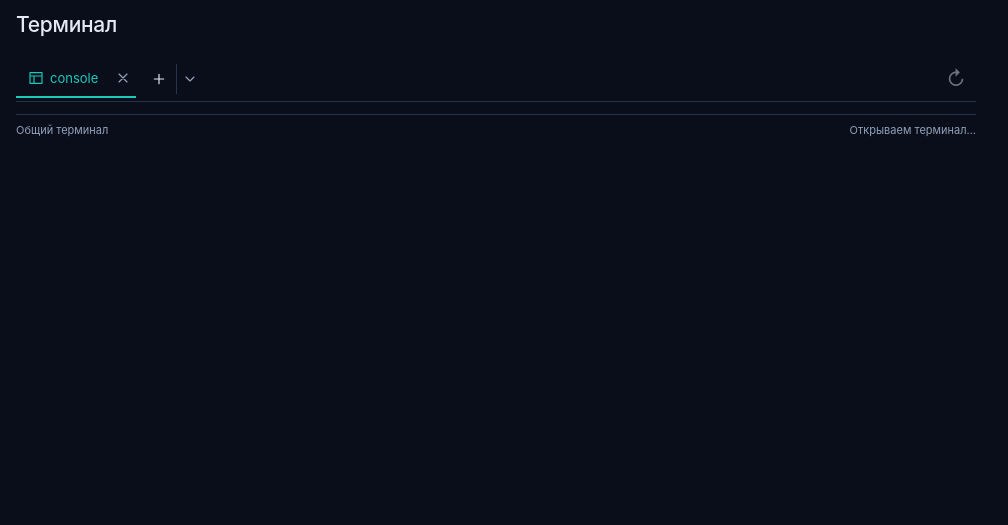
Test: offers distinct common and primary-bound creation, then rename without changing scope
Check: the tab "console" is shown, box [16,60,110,96]
Click the button named "Выбрать тип терминала" at [189, 79], box [176,64,202,94]
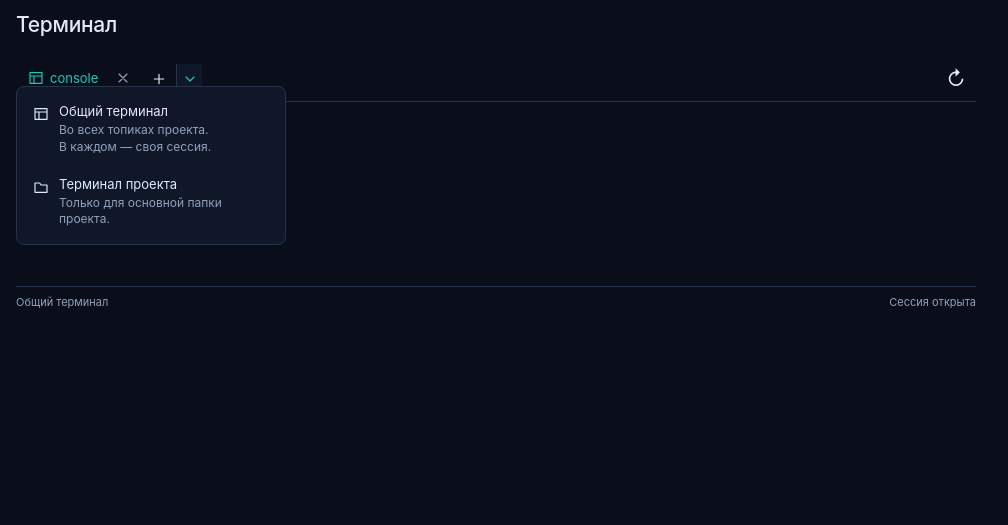
Click the menu item "Терминал проекта" at [151, 202], box [23,166,279,238]
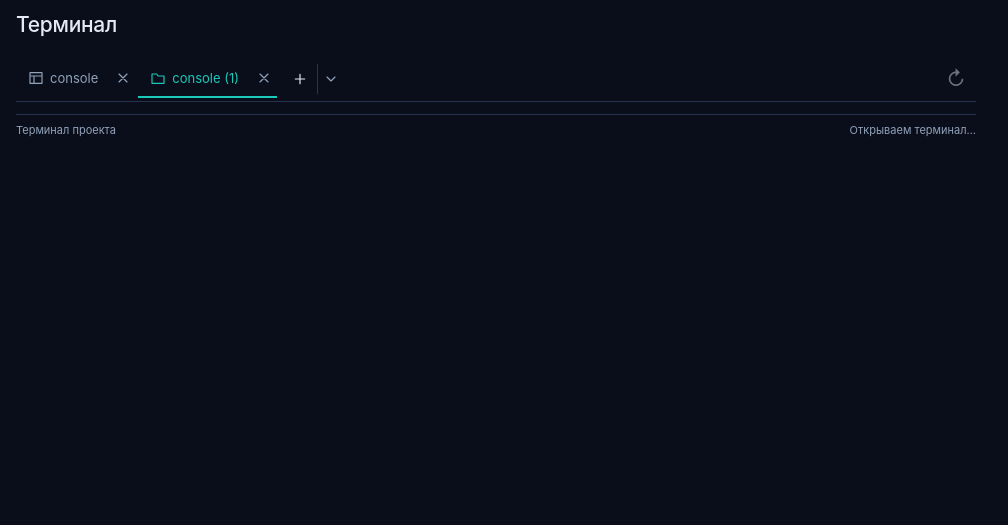
Check: the tab "console (1)" is shown
Right-click the tab "console (1)" at [195, 78], box [138,60,251,96]
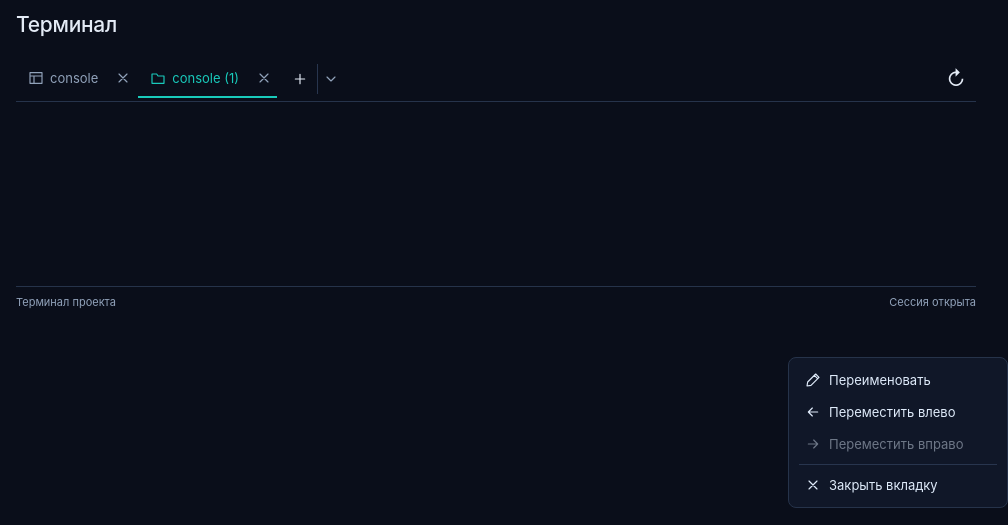
Click the menu item with aria-label "Переименовать терминал" at [898, 380], box [795,364,1001,396]
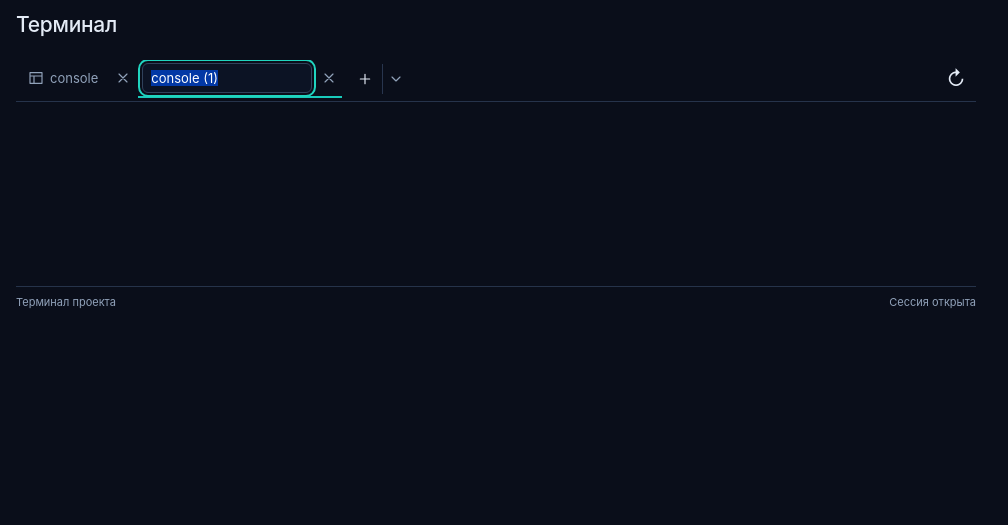
Replace the text in the field named "Имя терминала" with "Сборка" at [227, 78], box [142,63,312,93]
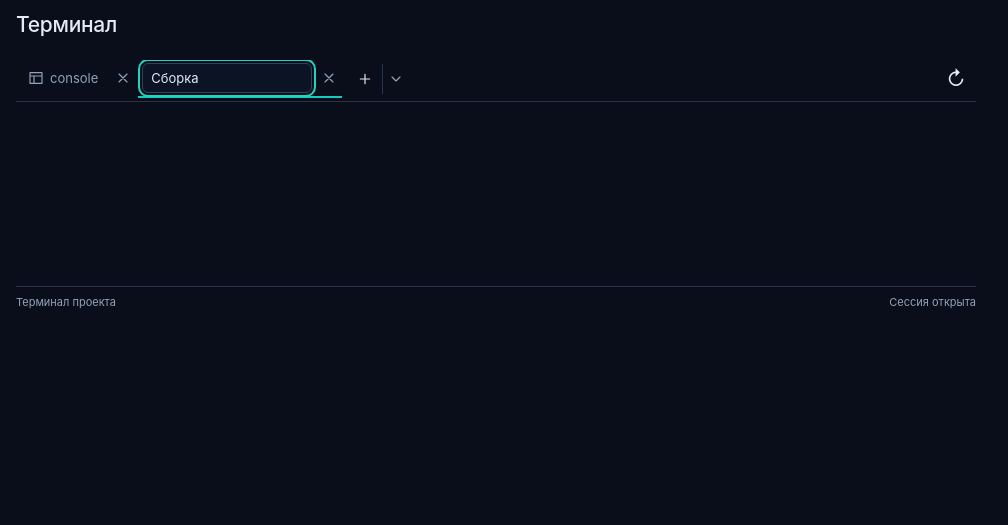
Submit the form, box [138,60,316,96]
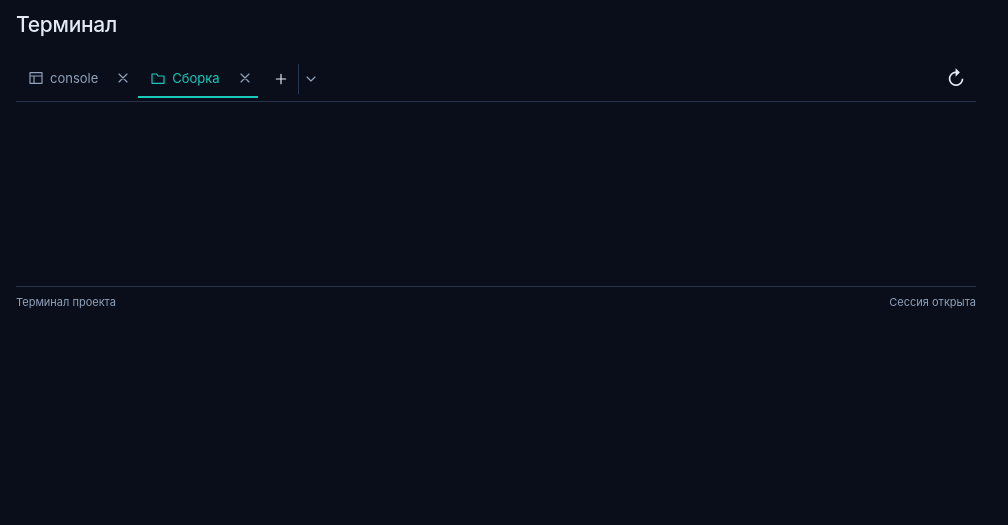
Check: the tab with aria-label "Сборка — Терминал проекта" is shown, box [138,60,232,96]
